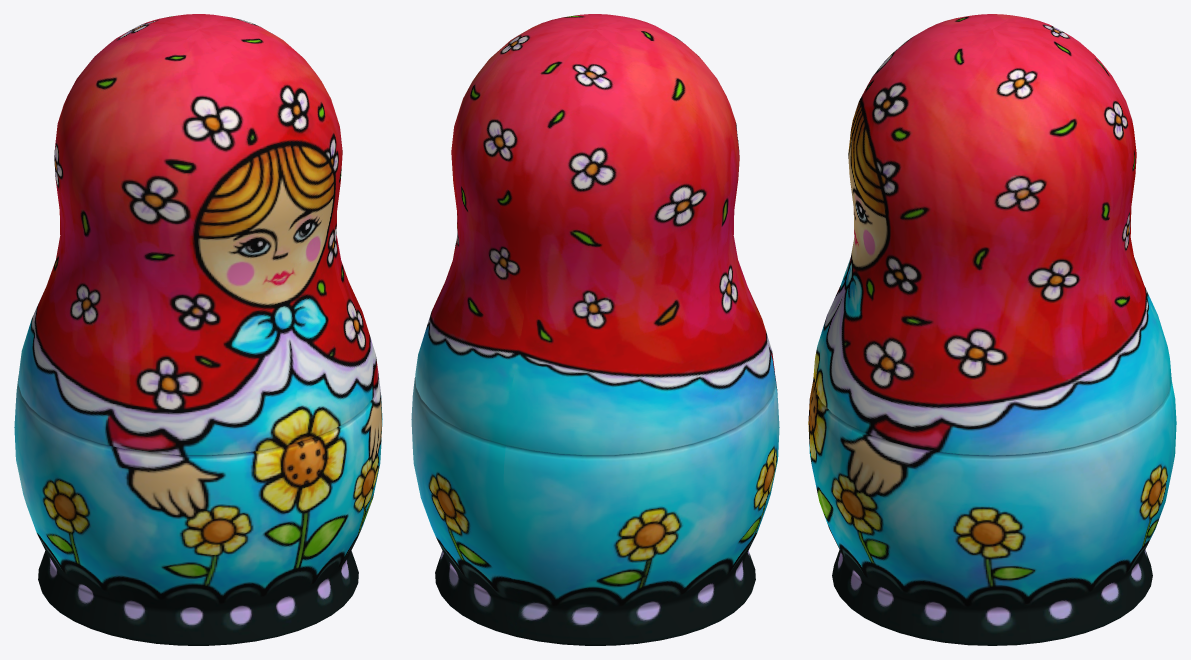
The model's file is matreshka.fbx.
3 views of the same model, side by side, from view 1: azimuth 30°, elevation 25°; view 2: azimuth 150°, elevation 25°; view 3: azimuth 270°, elevation 25° (orthographic).
Parts seen in each view (by area): view 1: node_id41; view 2: node_id41; view 3: node_id41.
Boxes of the visible parts, x1,y1,x2,y2 form: node_id41: [14, 14, 382, 645]; node_id41: [411, 14, 779, 645]; node_id41: [808, 14, 1176, 645].
Bounding box in the file's own units: 0.311 × 0.512 × 0.311.
Materials: 1 (1 with a texture image).
